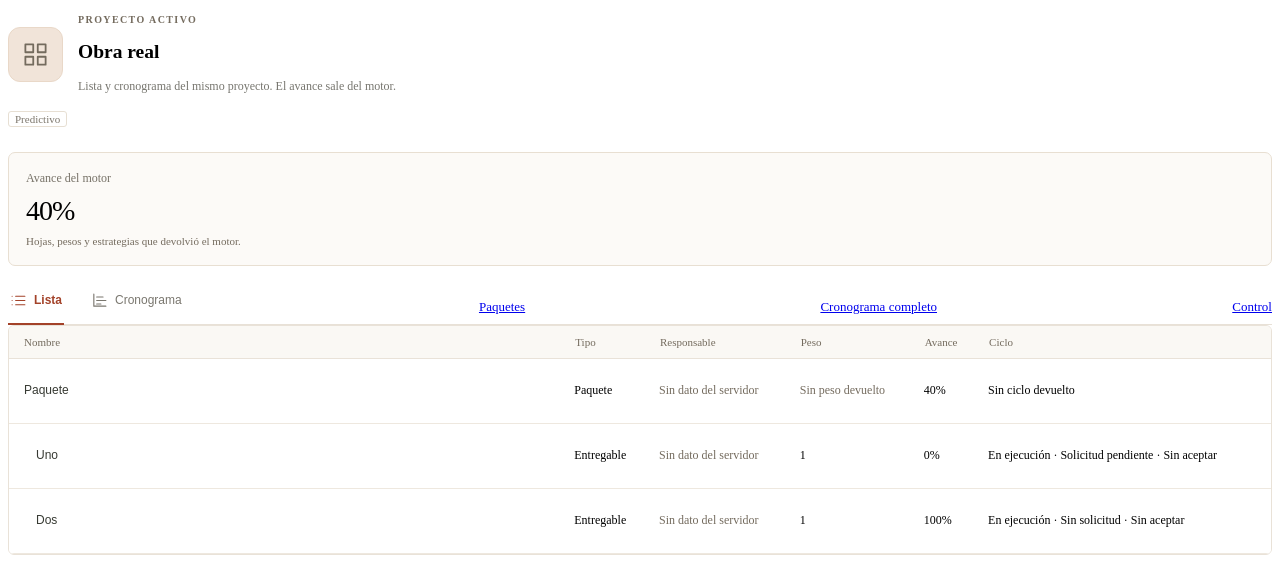
Test: ProjectWork › shows an error on the schedule instead of the example timeline
Expected: the heading "Obra real" is shown, [78, 41, 159, 62]
Click the button "Cronograma".
click(136, 307)  # box [89, 290, 184, 324]
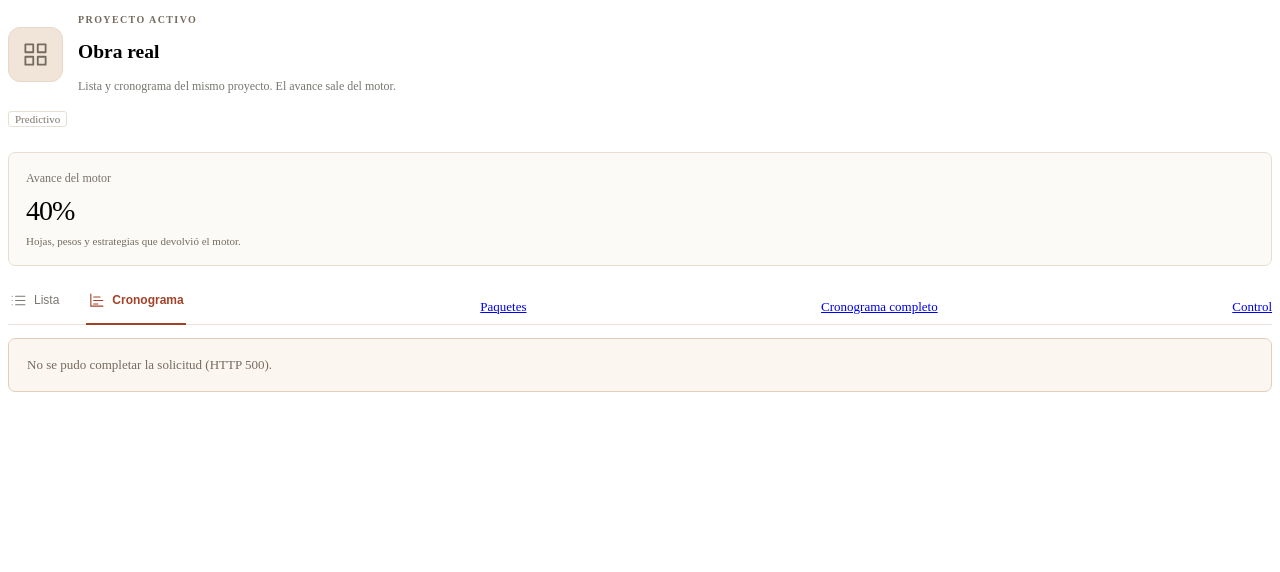
Now the message "No se pudo completar la solicitud (HTTP 500)." is shown, box [8, 338, 1272, 392]
